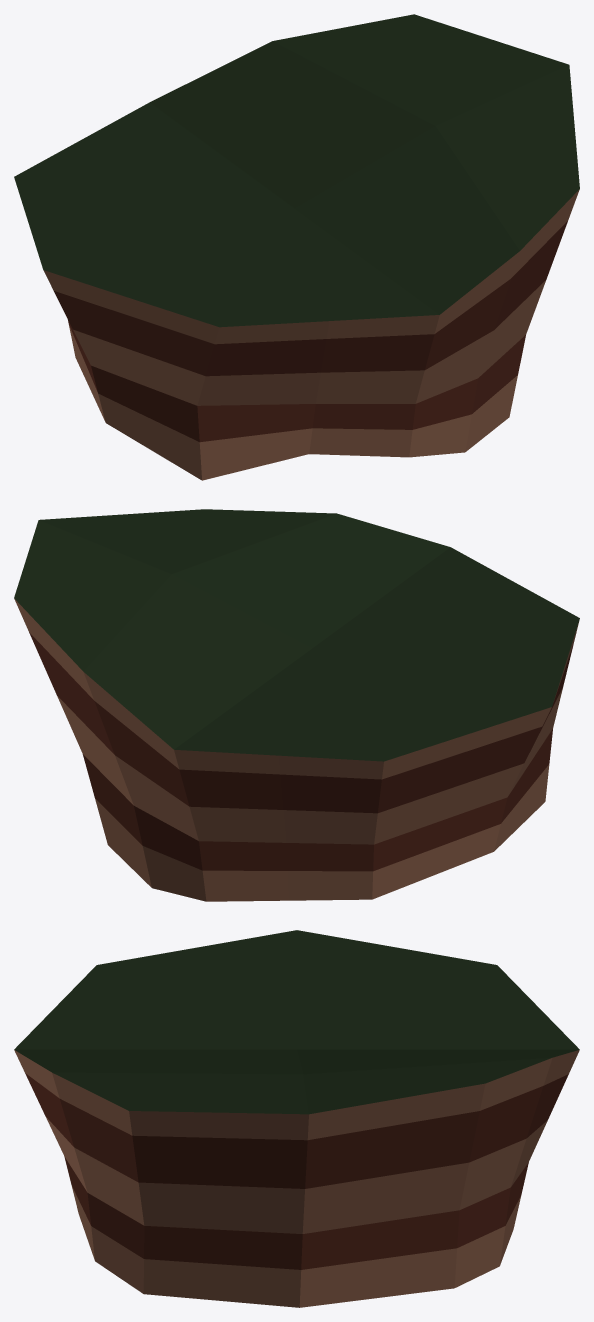
The model's file is chao1.fbx.
3 views of the same model, one above another, from view 1: azimuth 30°, elevation 25°; view 2: azimuth 150°, elevation 25°; view 3: azimuth 270°, elevation 25° (orthographic). The views are drawn at different scales.
Parts seen in each view (by area): view 1: Cube; view 2: Cube; view 3: Cube.
Part boxes in pixels (x1,y1,x2,y2): Cube: [14, 14, 579, 480]; Cube: [14, 509, 579, 901]; Cube: [14, 930, 579, 1307].
Bounding box in the file's own units: 384 × 197 × 362.
